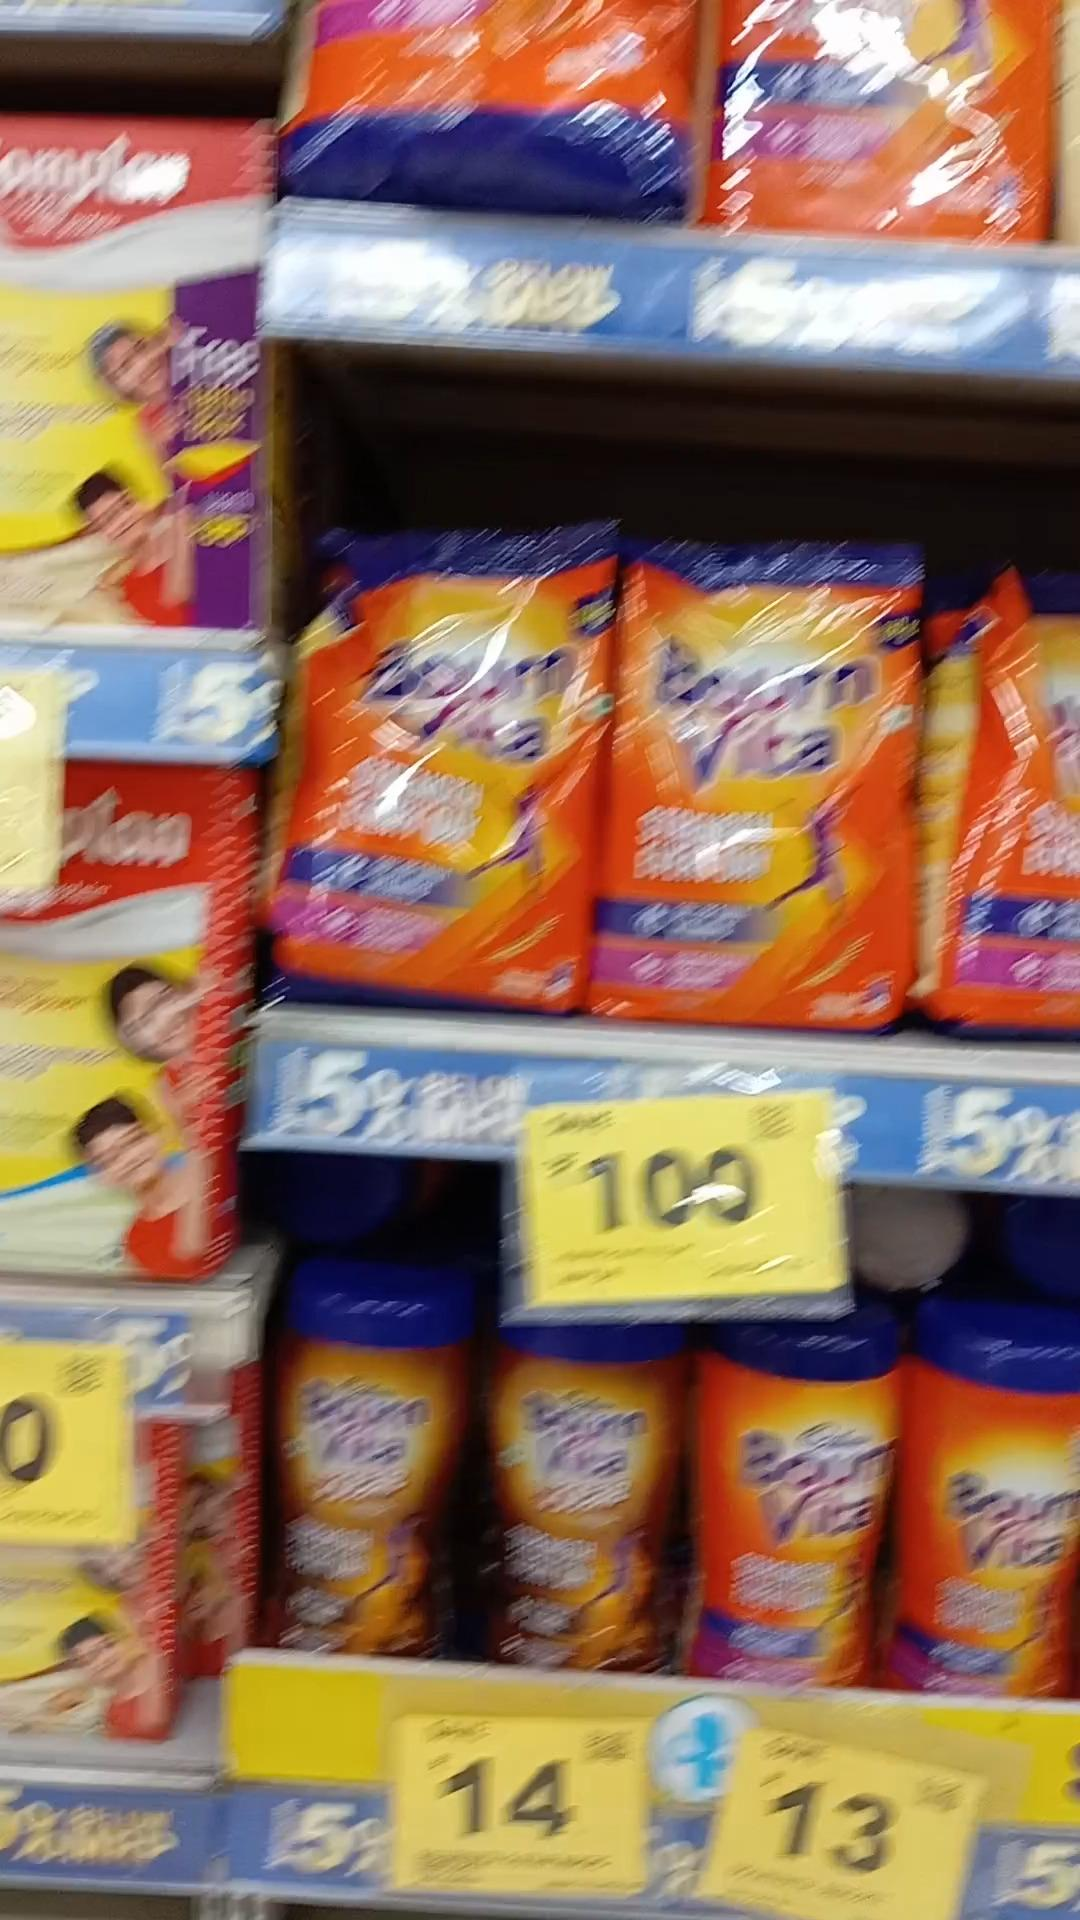BOURN_VITA_500_G_JAR: (688, 1316, 886, 1692), (903, 1309, 1080, 1692)
BOURN_VITA_750_G_POUCH: (266, 516, 588, 1014), (612, 541, 923, 1038)
BOURN_VITA_FIVE_STAR_MAGIC_500_G_JAR: (280, 1261, 479, 1651), (493, 1328, 673, 1672)
